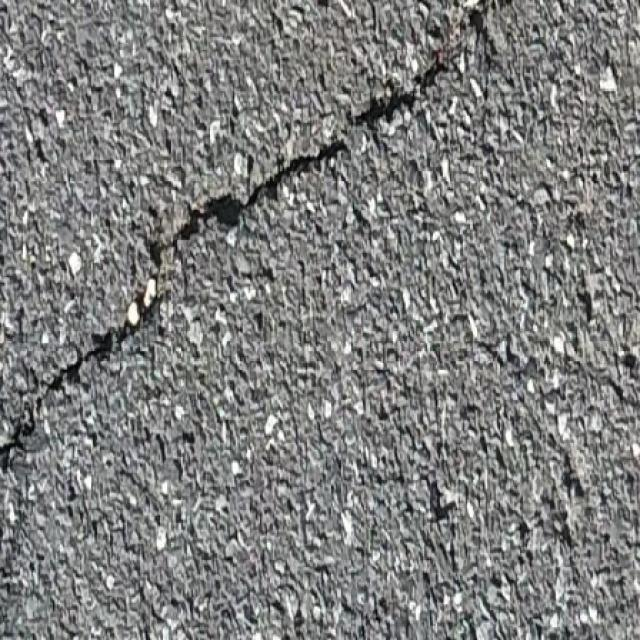diagonal crack: (4, 9, 506, 494)
